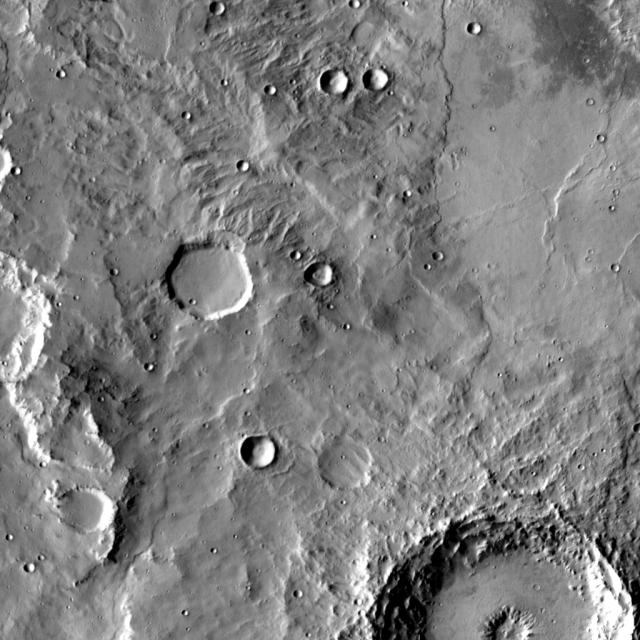crater: (388, 512, 632, 639), (0, 239, 51, 392), (166, 240, 256, 320), (318, 436, 373, 491), (61, 486, 115, 533), (207, 228, 247, 258), (241, 435, 276, 469), (0, 1, 31, 36), (304, 262, 334, 287), (321, 70, 348, 95), (363, 68, 388, 90), (0, 140, 12, 185), (2, 157, 16, 179), (209, 1, 225, 16), (334, 605, 346, 617), (468, 23, 480, 35), (264, 85, 276, 96), (237, 160, 248, 172), (432, 251, 443, 261), (11, 166, 21, 176), (24, 563, 34, 573), (56, 70, 66, 79), (290, 251, 300, 260), (349, 0, 359, 9), (144, 363, 154, 371), (160, 281, 168, 289), (423, 526, 431, 534), (354, 598, 362, 606), (110, 268, 118, 276), (403, 190, 411, 198), (294, 590, 302, 598), (612, 264, 620, 272), (182, 112, 190, 120), (634, 423, 640, 433), (587, 98, 594, 105), (597, 135, 604, 142), (533, 584, 541, 590), (44, 488, 50, 496), (424, 264, 432, 270), (352, 560, 360, 566), (199, 371, 206, 377), (358, 610, 365, 616), (190, 299, 197, 305), (343, 324, 350, 330), (6, 534, 13, 540), (221, 80, 228, 86), (488, 263, 495, 269), (243, 388, 250, 394), (309, 248, 315, 254), (242, 433, 248, 439), (613, 189, 619, 195), (245, 329, 251, 335), (290, 182, 296, 188), (578, 464, 584, 470), (98, 396, 104, 402), (203, 422, 209, 428), (73, 295, 79, 301), (150, 333, 156, 339), (182, 610, 188, 616), (40, 462, 46, 468), (90, 177, 96, 183), (38, 554, 44, 560), (502, 552, 508, 557), (395, 576, 400, 582), (248, 159, 254, 164), (293, 211, 299, 216), (551, 618, 556, 624), (552, 340, 558, 345), (451, 153, 457, 158), (142, 157, 148, 162), (6, 423, 12, 428), (610, 166, 616, 171), (600, 448, 606, 453), (584, 58, 590, 63), (431, 364, 436, 370), (233, 190, 239, 195), (327, 304, 333, 309), (490, 126, 495, 132), (381, 64, 386, 70), (371, 234, 376, 240), (402, 1, 408, 6), (99, 378, 105, 383), (291, 378, 296, 384), (378, 437, 384, 442), (245, 411, 251, 416), (373, 174, 378, 180), (386, 247, 392, 252), (340, 500, 346, 505), (388, 90, 393, 96), (388, 27, 394, 32), (290, 79, 296, 84), (160, 159, 166, 164), (211, 548, 216, 554), (377, 59, 382, 64), (611, 197, 616, 202), (263, 362, 268, 367), (449, 346, 454, 351), (137, 160, 142, 165), (592, 452, 597, 457), (444, 358, 449, 363), (531, 471, 536, 476), (120, 338, 125, 343), (91, 251, 96, 256), (48, 26, 53, 31), (397, 368, 402, 373), (57, 302, 62, 307), (84, 440, 89, 445), (295, 33, 300, 38), (558, 357, 563, 362), (173, 229, 178, 234), (510, 490, 516, 494), (446, 95, 450, 101), (380, 486, 386, 490), (592, 396, 598, 400), (306, 632, 310, 638), (152, 428, 158, 432), (588, 250, 594, 254), (177, 440, 182, 444), (477, 286, 482, 290), (202, 368, 207, 372), (474, 523, 478, 528), (92, 366, 96, 371), (398, 422, 402, 427), (503, 297, 508, 301), (497, 54, 501, 59), (336, 222, 341, 226), (140, 17, 144, 22), (67, 142, 71, 147), (352, 14, 357, 18), (18, 248, 23, 252), (169, 317, 173, 322), (153, 361, 158, 365), (2, 362, 7, 366), (401, 408, 406, 412), (497, 373, 502, 377), (293, 97, 298, 101), (293, 90, 298, 94), (492, 472, 497, 476), (128, 421, 132, 426), (172, 461, 177, 465), (344, 295, 349, 299), (6, 585, 11, 589), (233, 534, 238, 538), (540, 283, 544, 288), (217, 466, 222, 470), (489, 72, 493, 77), (470, 475, 475, 479), (40, 199, 44, 204), (275, 189, 279, 194), (627, 510, 632, 514), (472, 268, 477, 272), (6, 112, 10, 117), (586, 257, 590, 262), (246, 586, 251, 590), (256, 569, 261, 573), (214, 454, 218, 459), (609, 206, 614, 210), (0, 134, 3, 140), (242, 488, 246, 492), (547, 355, 551, 359), (240, 96, 244, 100), (392, 482, 396, 486), (319, 56, 323, 60), (597, 374, 601, 378), (70, 598, 74, 602), (39, 516, 43, 520), (322, 27, 326, 31), (161, 17, 165, 21), (294, 570, 298, 574), (171, 512, 175, 516), (49, 68, 53, 72), (439, 233, 443, 237), (372, 380, 376, 384), (111, 352, 115, 356), (137, 106, 141, 110), (113, 386, 117, 390), (76, 451, 80, 455), (124, 554, 128, 558), (72, 146, 76, 150), (266, 598, 270, 602), (111, 428, 115, 432), (412, 284, 416, 288), (430, 512, 434, 516), (228, 124, 232, 128), (271, 564, 275, 568), (578, 340, 582, 344), (260, 544, 264, 548), (66, 605, 70, 609), (628, 270, 632, 274), (220, 426, 224, 430), (604, 324, 608, 328), (202, 540, 206, 544), (335, 288, 339, 292), (573, 218, 577, 222), (589, 144, 593, 148), (325, 521, 329, 525), (598, 109, 602, 113), (341, 455, 345, 459), (16, 558, 20, 562), (607, 175, 611, 179), (132, 18, 136, 22), (196, 69, 200, 73), (312, 232, 316, 236), (186, 628, 190, 632), (329, 385, 333, 389), (24, 526, 28, 530), (455, 182, 459, 186), (563, 408, 567, 412), (200, 42, 204, 46), (242, 42, 246, 46), (410, 330, 414, 334), (347, 404, 351, 408), (26, 196, 30, 200), (555, 285, 559, 288), (30, 99, 34, 102), (282, 338, 284, 342), (248, 366, 252, 368), (382, 390, 386, 392)
